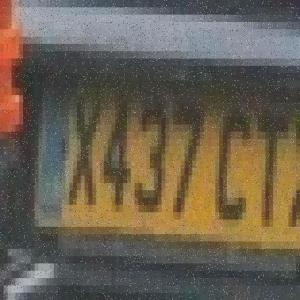Plate: (30, 32, 297, 264)
